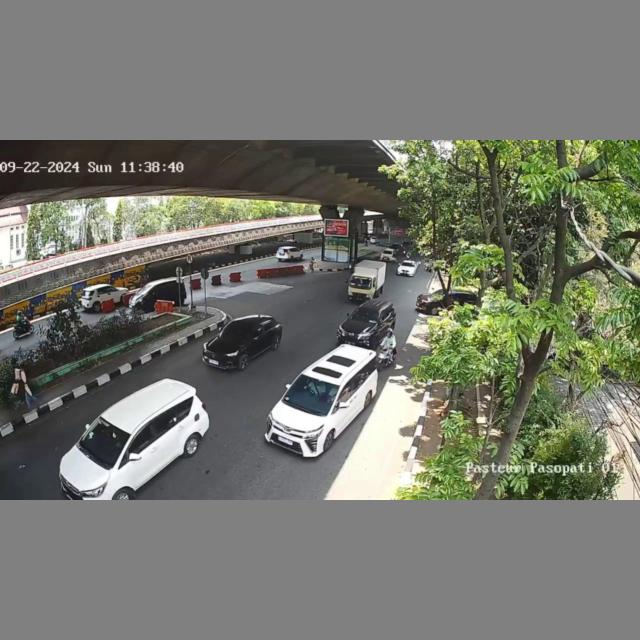windshield: (284, 372, 344, 413), (80, 417, 128, 462), (216, 321, 253, 341), (352, 306, 379, 323), (350, 277, 371, 290)
